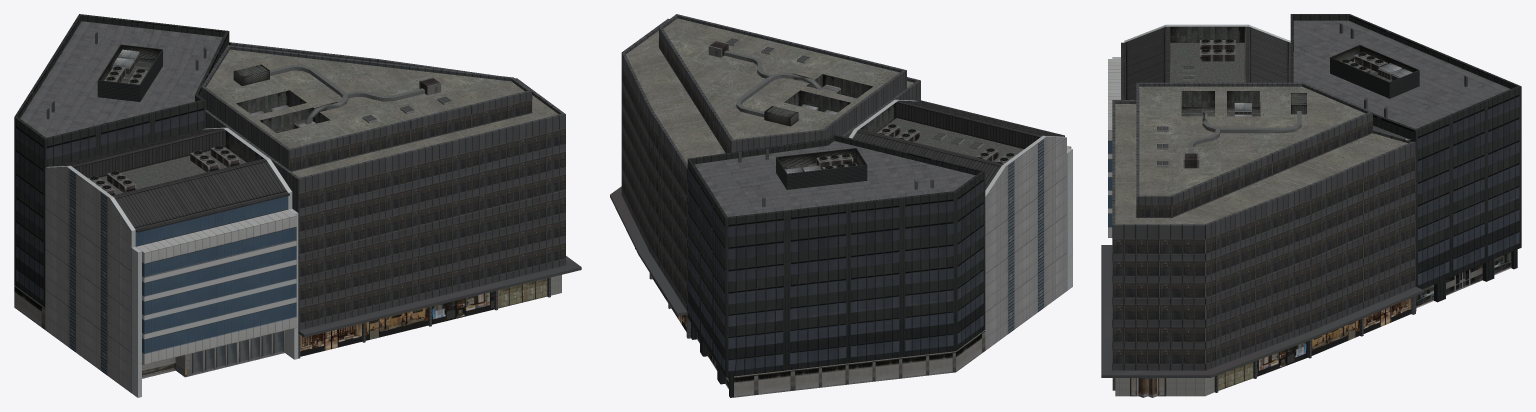
The model's file is angular_block.glb.
3 views of the same model, side by side, from view 1: azimuth 30°, elevation 25°; view 2: azimuth 150°, elevation 25°; view 3: azimuth 270°, elevation 25° (orthographic). The views are drawn at different scales.
Visible parts, largest first — view 1: angular_block; view 2: angular_block; view 3: angular_block.
Part boxes in pixels (x1=…): angular_block: x1=14, y1=14, x2=581, y2=397; angular_block: x1=610, y1=14, x2=1072, y2=397; angular_block: x1=1101, y1=14, x2=1521, y2=397.
Size of the model in its own units: 65.51 by 29.23 by 56.62.
Materials: 1 (1 with a texture image).
